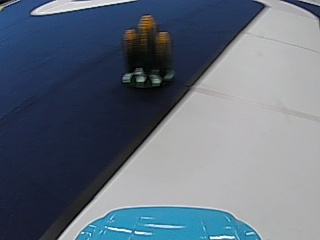corn: (119, 11, 175, 87)
